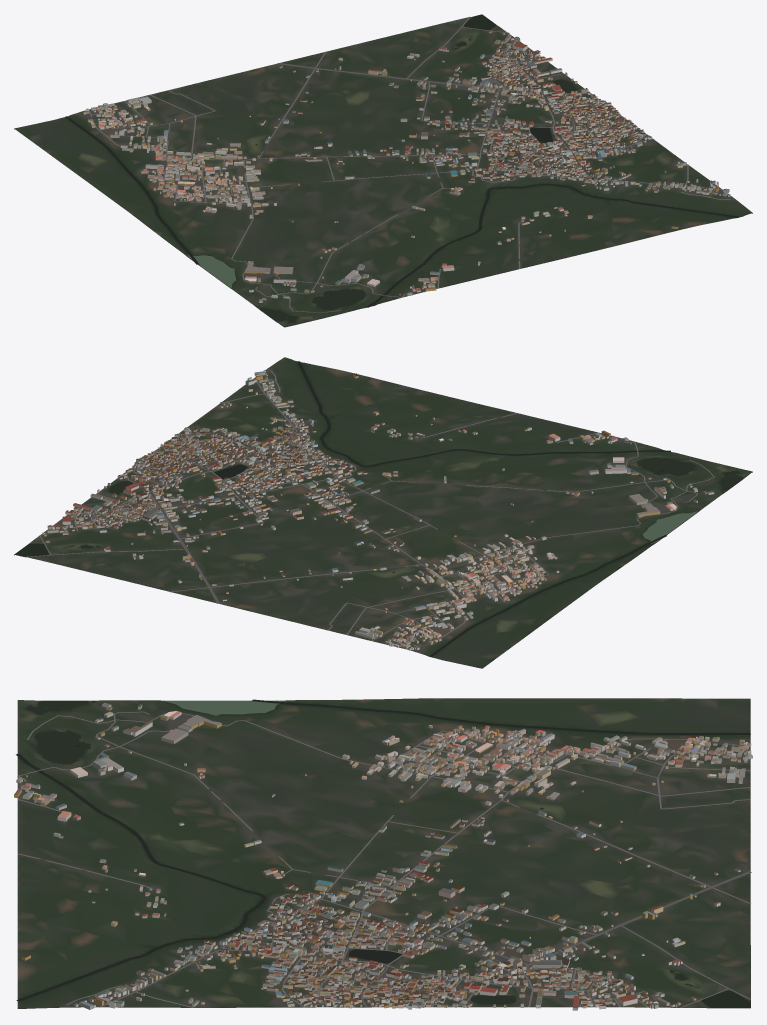
3 views of the same model, one above another, from view 1: azimuth 30°, elevation 25°; view 2: azimuth 150°, elevation 25°; view 3: azimuth 270°, elevation 25° (orthographic). The views are drawn at different scales.
Visible parts, largest first — view 1: ground, buildings, roads, water; view 2: ground, buildings, roads, water; view 3: ground, buildings, water, roads.
Boxes of the visible parts, x1,y1,x2,y2 form: ground: [14, 15, 752, 327]; buildings: [83, 30, 730, 302]; roads: [88, 16, 730, 312]; water: [65, 14, 738, 322]; ground: [14, 357, 752, 668]; buildings: [42, 370, 714, 650]; roads: [26, 370, 714, 649]; water: [15, 361, 742, 656]; ground: [17, 698, 750, 1008]; buildings: [14, 702, 752, 1010]; water: [16, 699, 750, 1007]; roads: [17, 711, 751, 1007].
Size of the model in its own units: 1419 by 21.12 by 1413.
